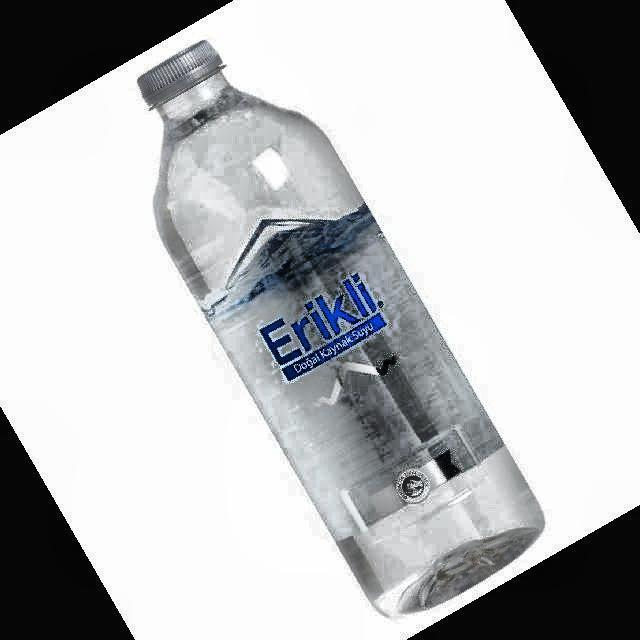plastic: (139, 42, 544, 614)
